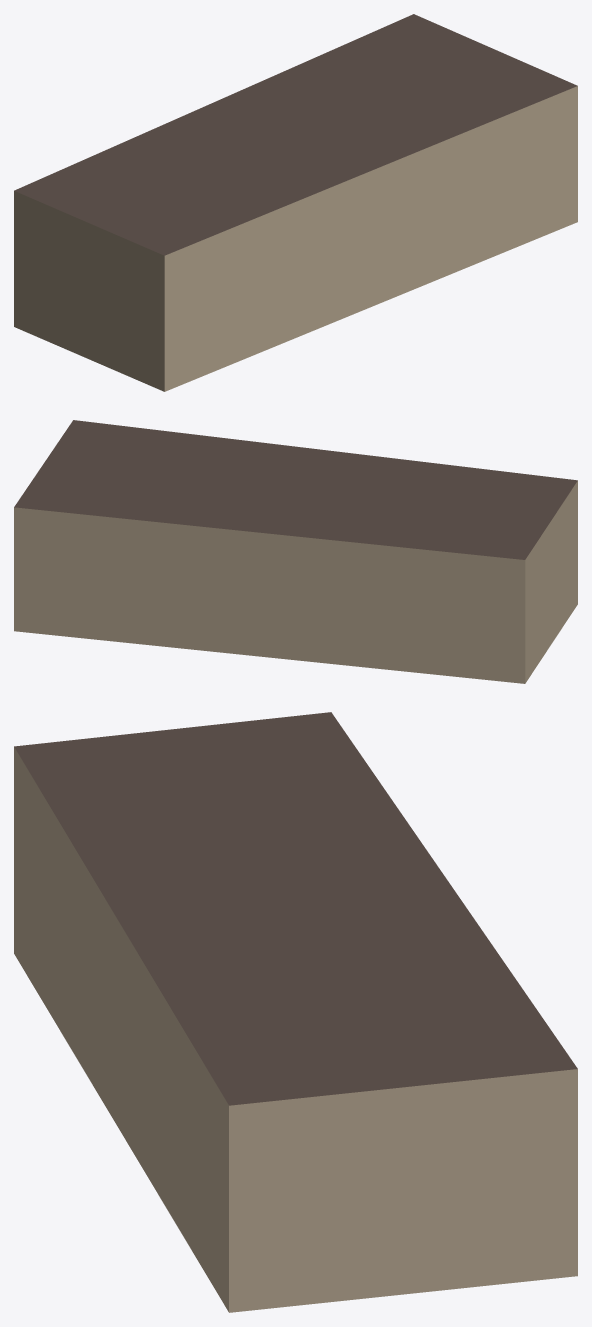
The picture shows the model from 3 angles, top to bottom: view 1: azimuth 30°, elevation 25°; view 2: azimuth 150°, elevation 25°; view 3: azimuth 270°, elevation 25°; orthographic projection. The views are drawn at different scales.
Parts seen in each view (by area): view 1: HP-w1512359807; view 2: HP-w1512359807; view 3: HP-w1512359807.
Boxes of the visible parts, <box> form: HP-w1512359807: <box>14,14,577,391</box>; HP-w1512359807: <box>14,420,577,683</box>; HP-w1512359807: <box>14,712,577,1312</box>.
Size of the model in its own units: 36.68 by 9 by 22.21.
